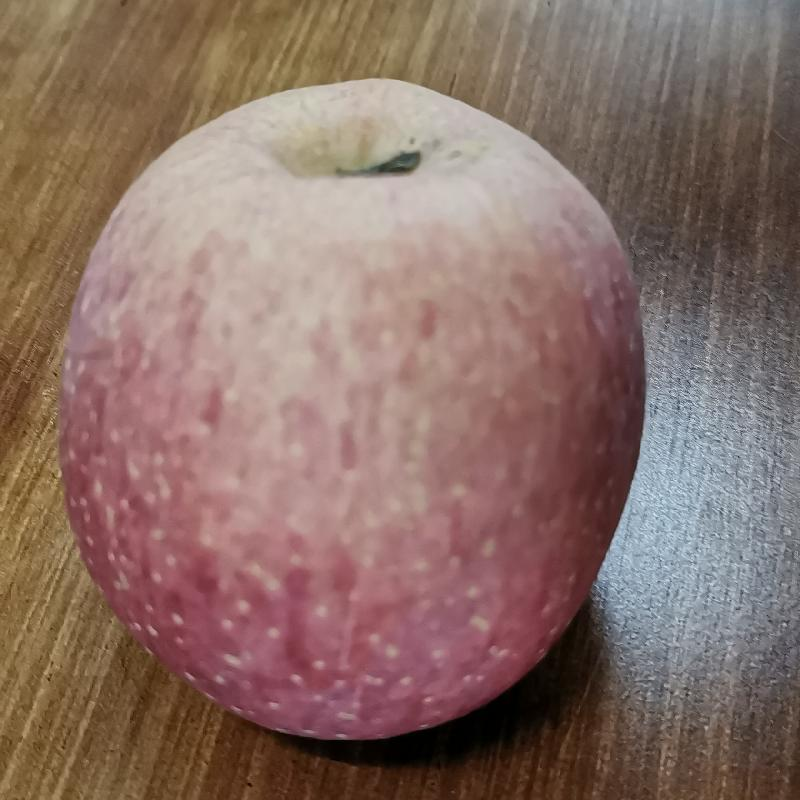apples: (47, 77, 657, 740)
